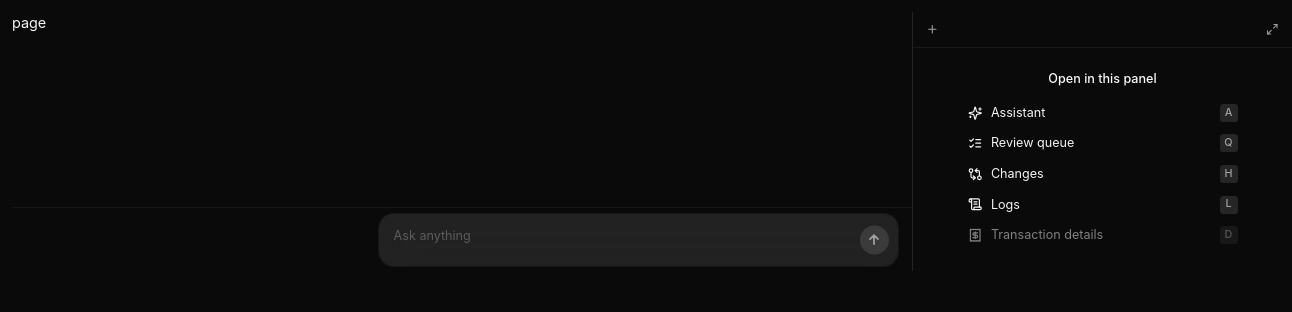
AssistantLayout › tails the in-memory log, filtered by level
Press l in the element "Open in this panel", box [958,71,1246,251]
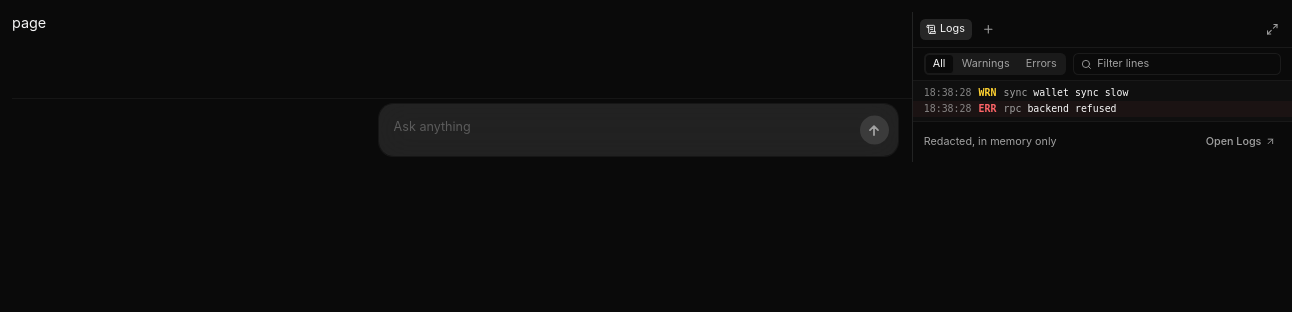
Check: the element named "Logs" shows "wallet sync slow", box [1033,87,1128,98]
Check: the element named "Logs" shows "backend refused", box [1027,103,1117,114]
Click the radio button labelled "Errors" at (1041,64), box [1019,55,1064,73]
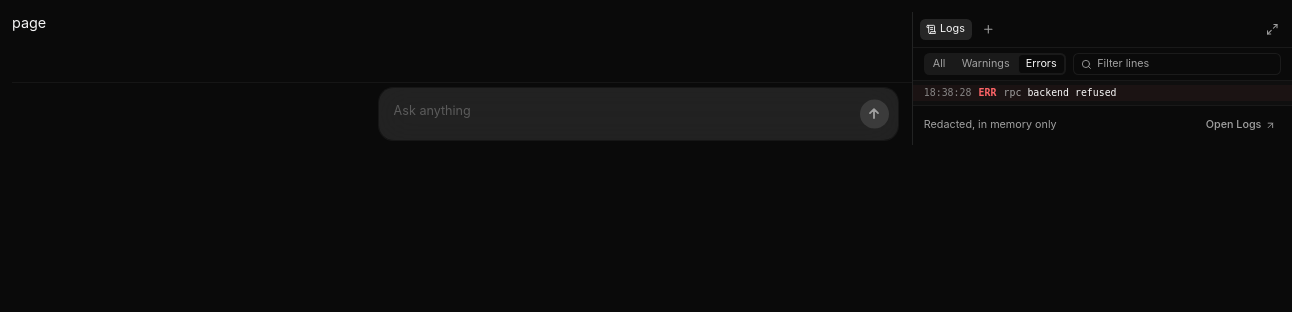
Check: the text "wallet sync slow" is gone
Type "nothing like it" into the search field labelled "Filter lines" at (1185,64), box [1097,57,1273,71]
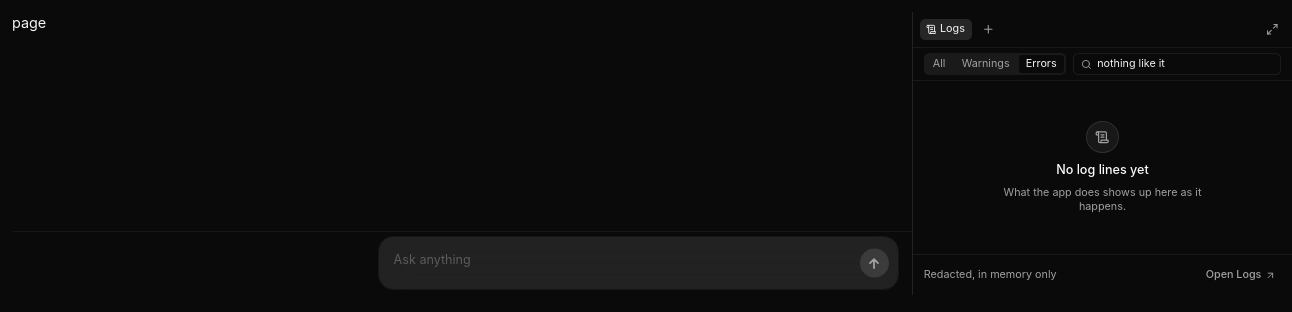
Check: the text "No lines match" is shown, box [1056,161,1149,179]
